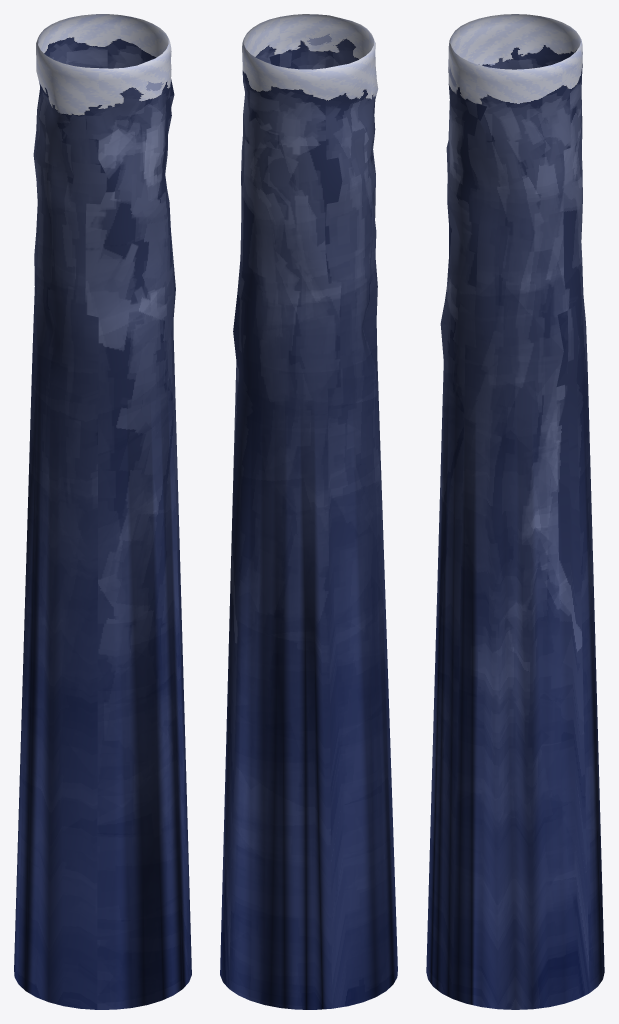
Rendered from Platform_Circular_Small 1.fbx.
The picture shows the model from 3 angles, left to right: view 1: azimuth 30°, elevation 25°; view 2: azimuth 150°, elevation 25°; view 3: azimuth 270°, elevation 25°; orthographic projection.
Visible parts, largest first — view 1: Small Platform; view 2: Small Platform; view 3: Small Platform.
Boxes of the visible parts, x1,y1,x2,y2 form: Small Platform: (14,14,191,1009); Small Platform: (220,14,397,1009); Small Platform: (426,14,604,1009).
Bounding box in the file's own units: 32240 × 5594 × 5594.
Materials: 1 (1 with a texture image).
